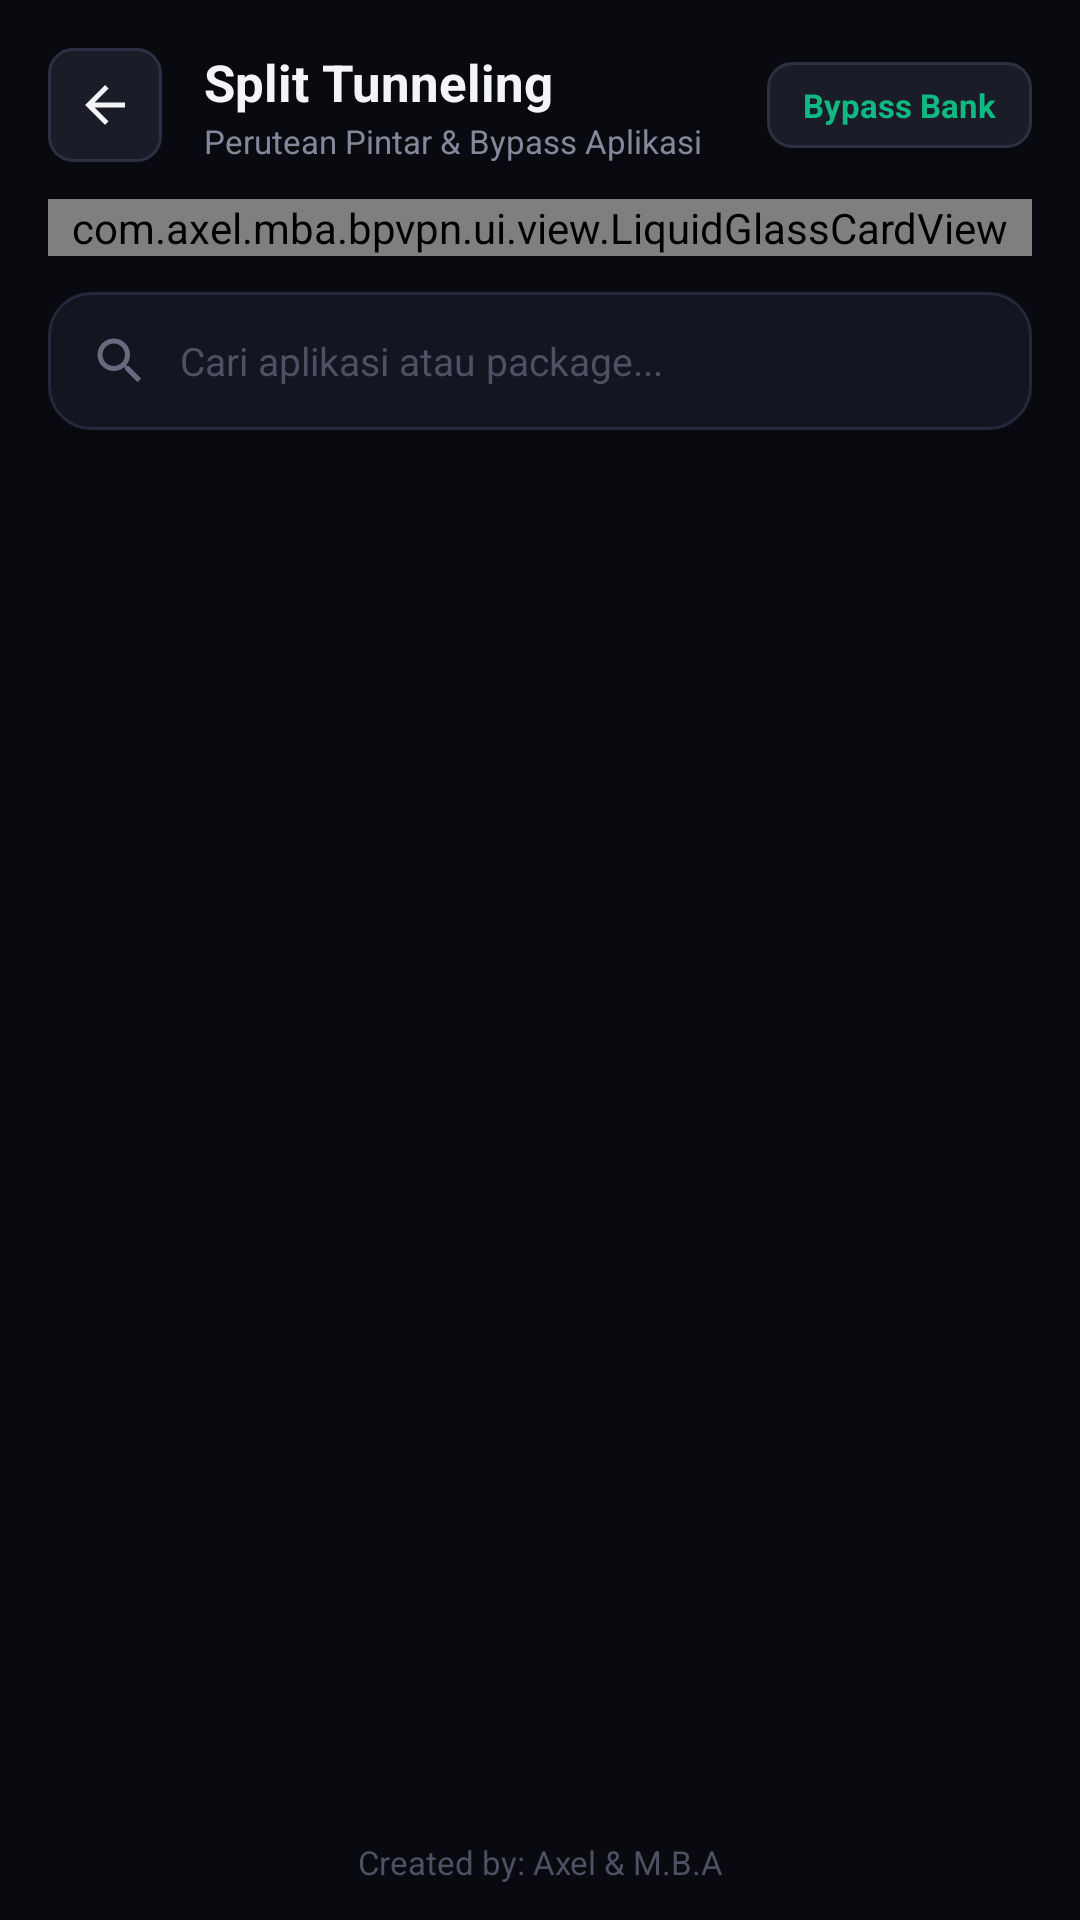

Where to tap for icons on this 1080 × 1920 app screen, as (x=x, y=y):
Kembali: (x=105, y=105)
search: (x=119, y=360)
